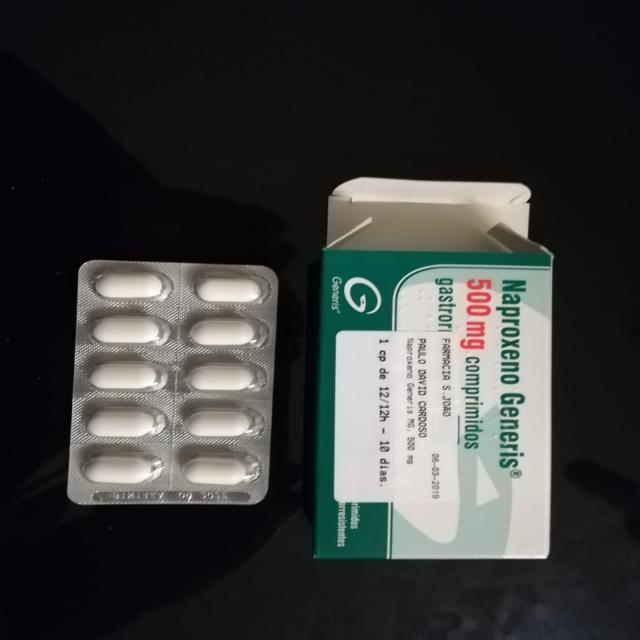Pill: (82, 264, 170, 304), (85, 310, 171, 348), (80, 403, 165, 441), (182, 358, 262, 398), (189, 269, 272, 307), (83, 357, 168, 394), (76, 450, 161, 485), (180, 316, 268, 349), (182, 453, 255, 489), (179, 410, 261, 440)
